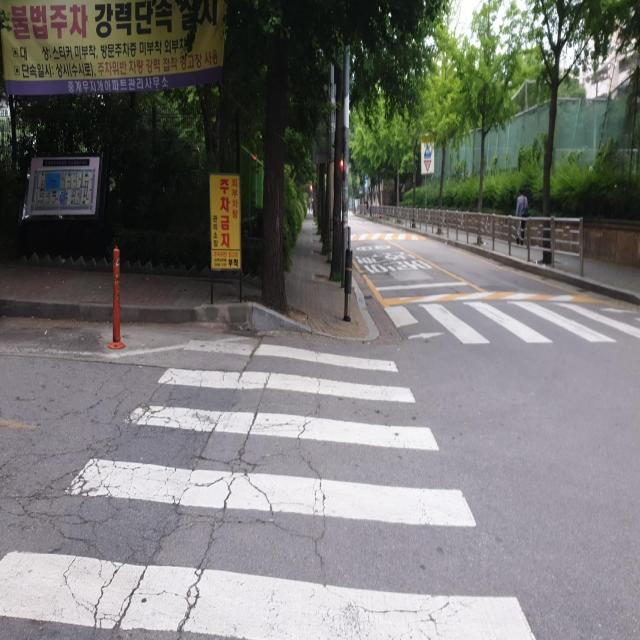횡단보도: (0, 337, 536, 639), (383, 300, 640, 352)
